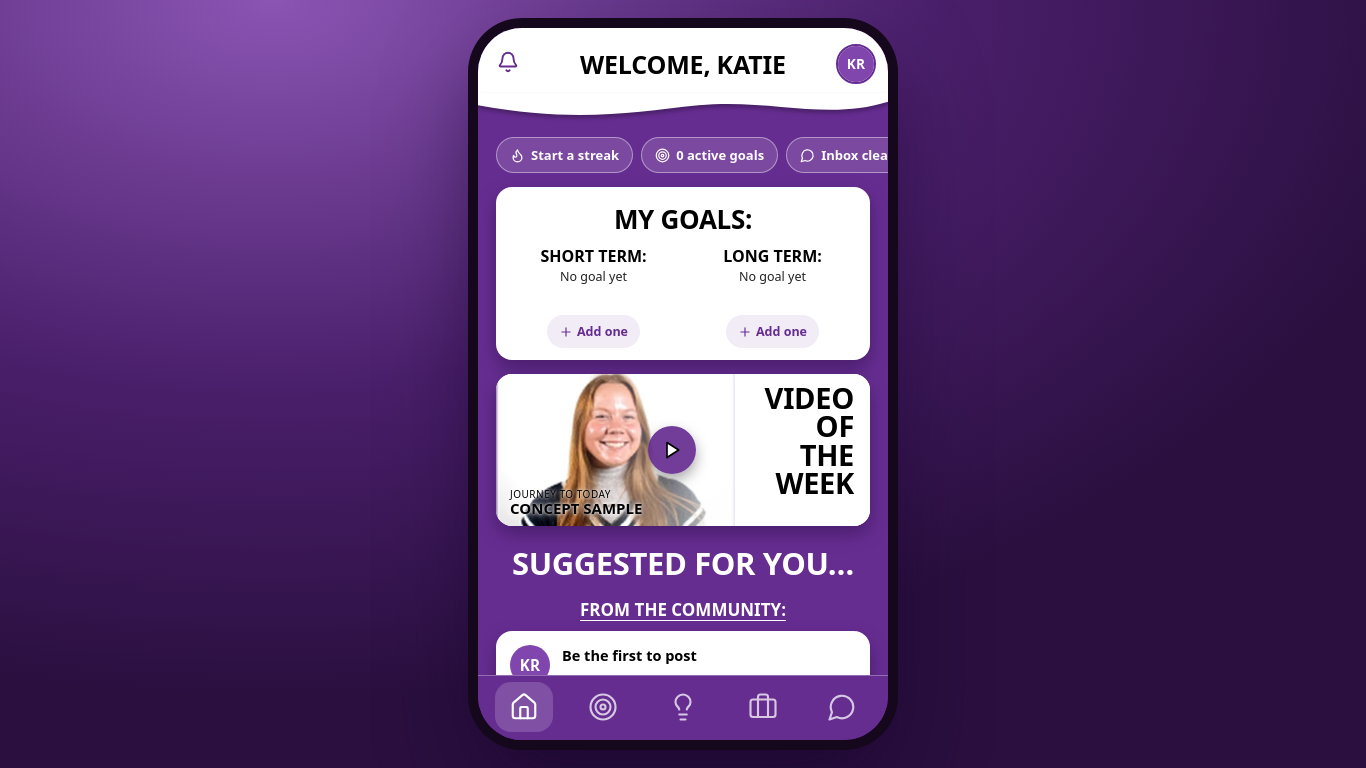
it: goals › makes a goal public and lets another member cheer and comment
Expected: the heading "Welcome, Katie" is shown, left=580, top=47, right=786, bottom=81
Step 1. Click the button named "Goals" → [603, 707], box left=574, top=682, right=632, bottom=732
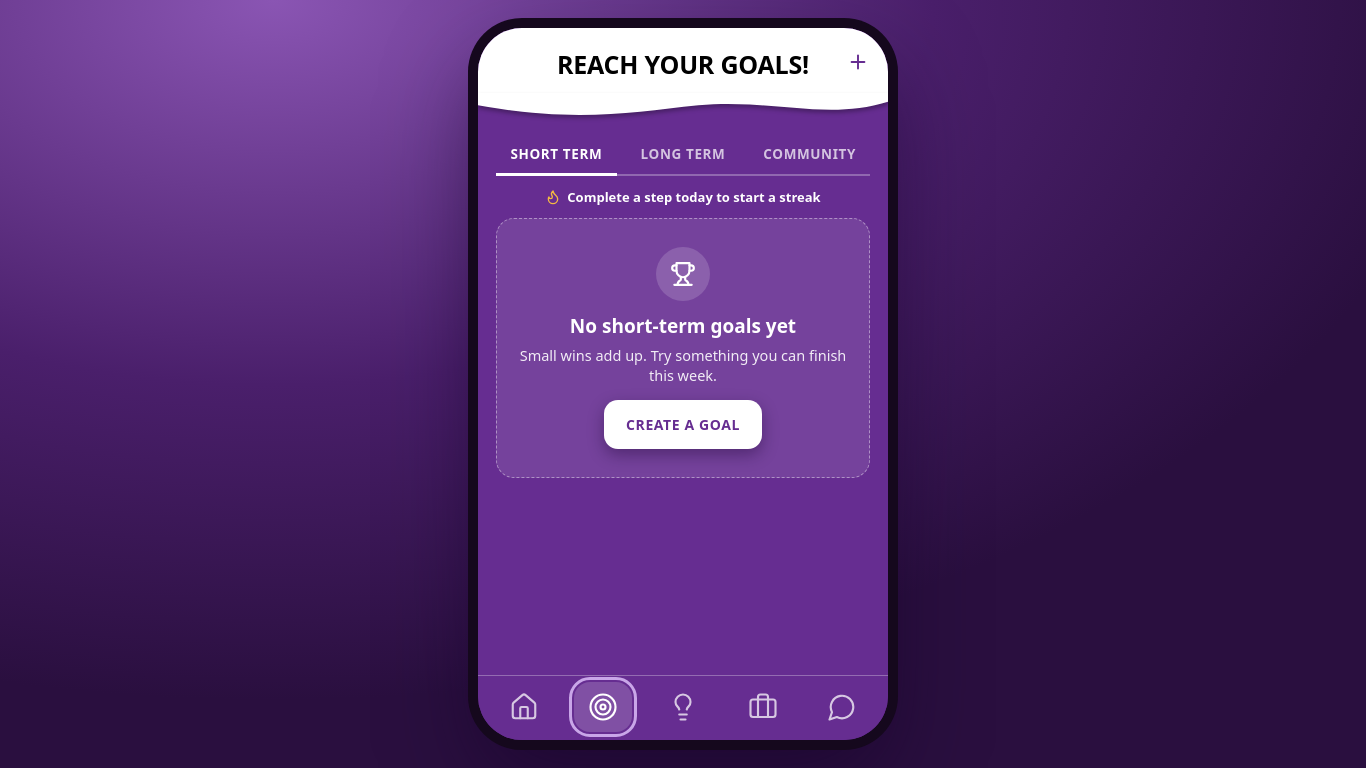
Step 2. Click the tab "Community" → [810, 156], box left=749, top=135, right=870, bottom=176
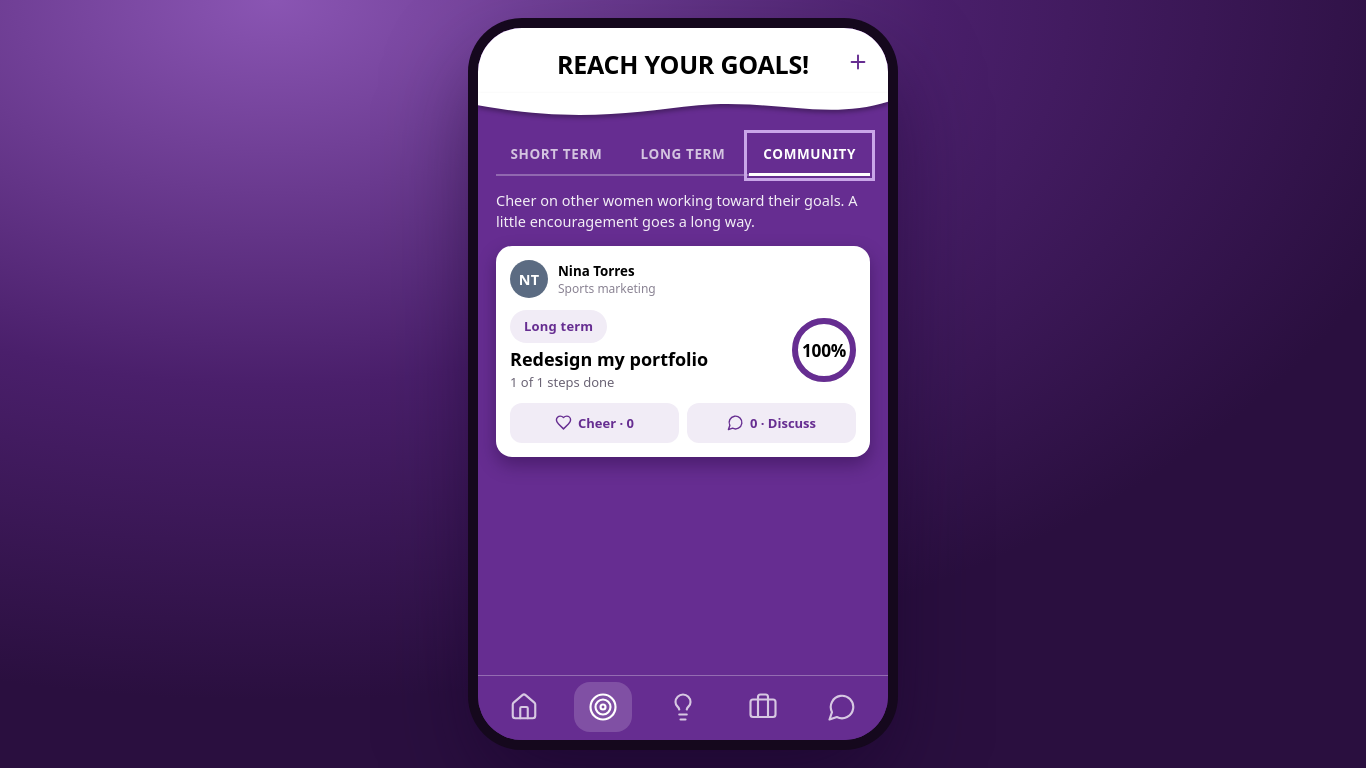
Step 3. Click the button "Cheer · 0" → [594, 423], box left=510, top=403, right=679, bottom=443
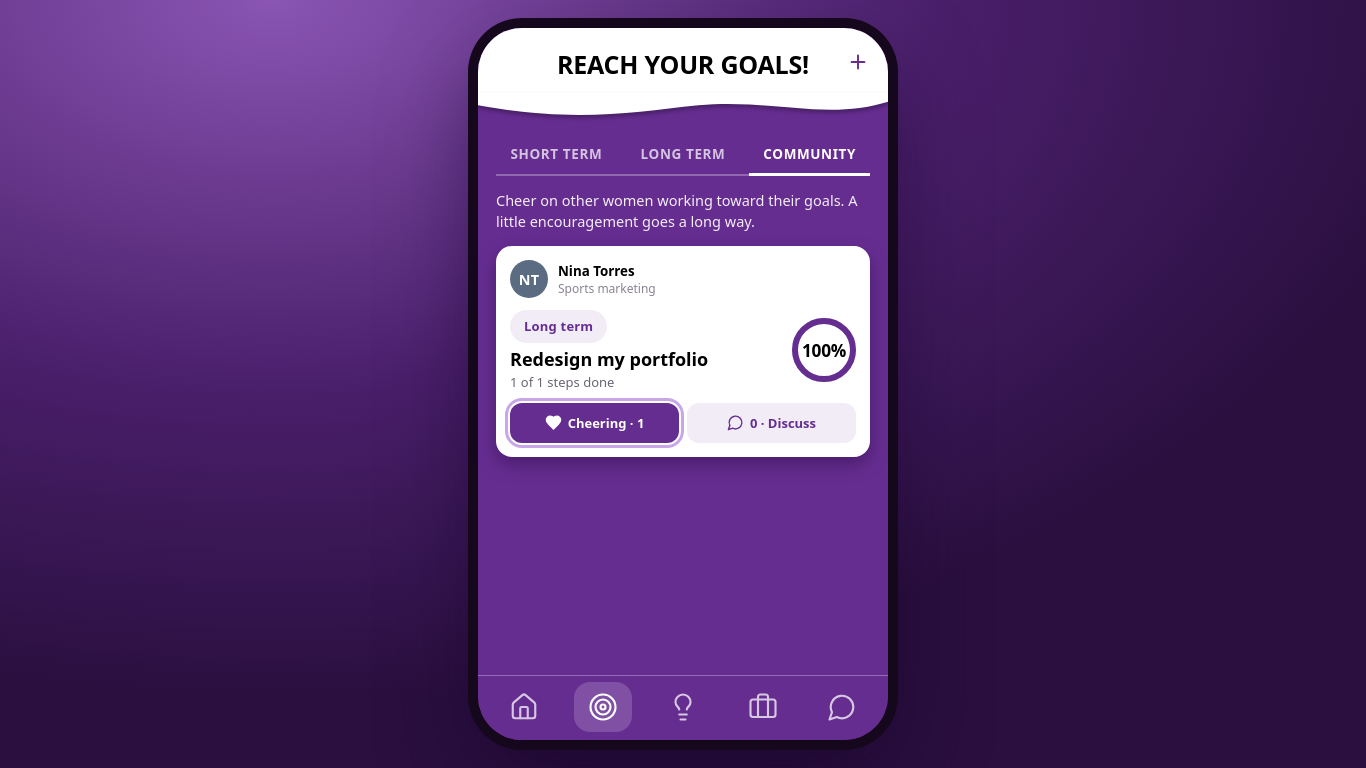
Step 4. Click the button "0 · Discuss" → [772, 423], box left=687, top=403, right=856, bottom=443
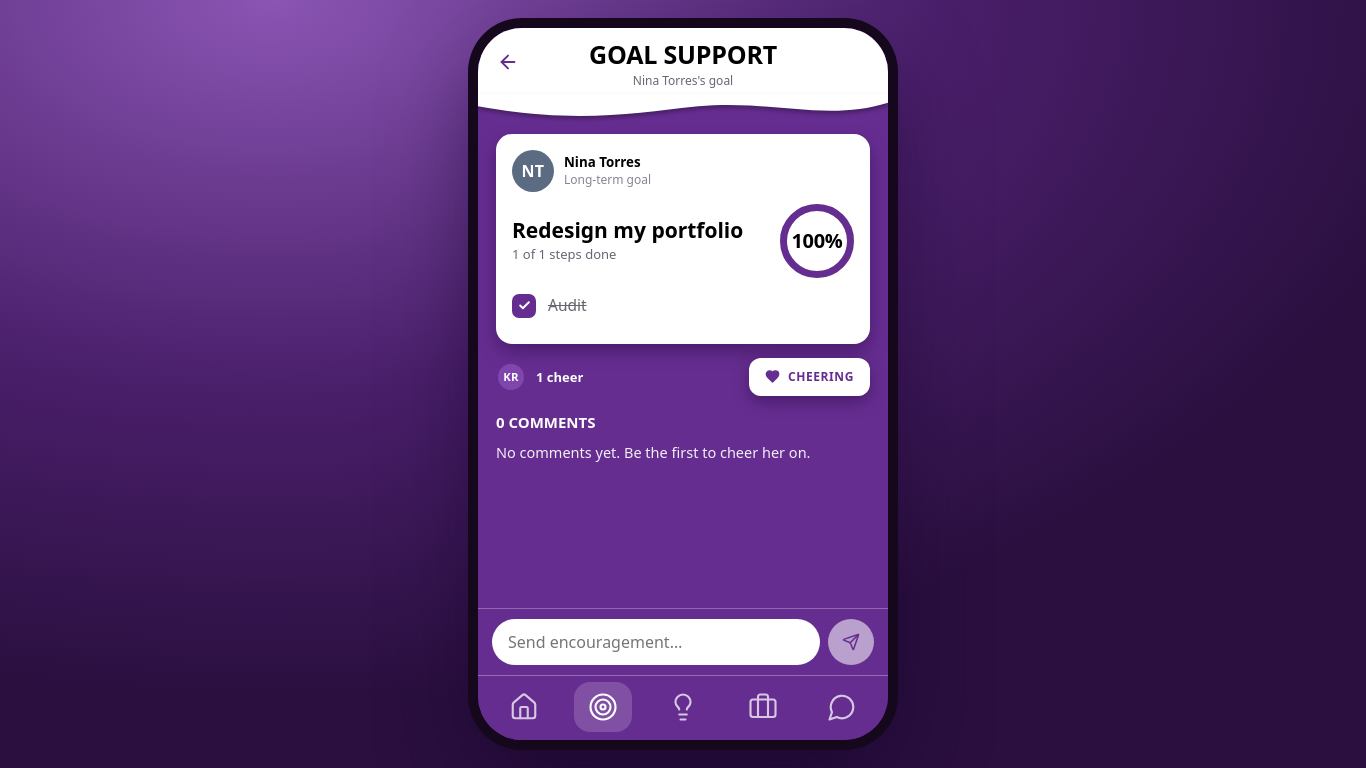
Result: the heading "Goal support" is shown at left=589, top=37, right=777, bottom=71
Step 5. Type "You've got this!" into the field with placeholder "Send encouragement…" → [656, 642], box left=492, top=619, right=820, bottom=665
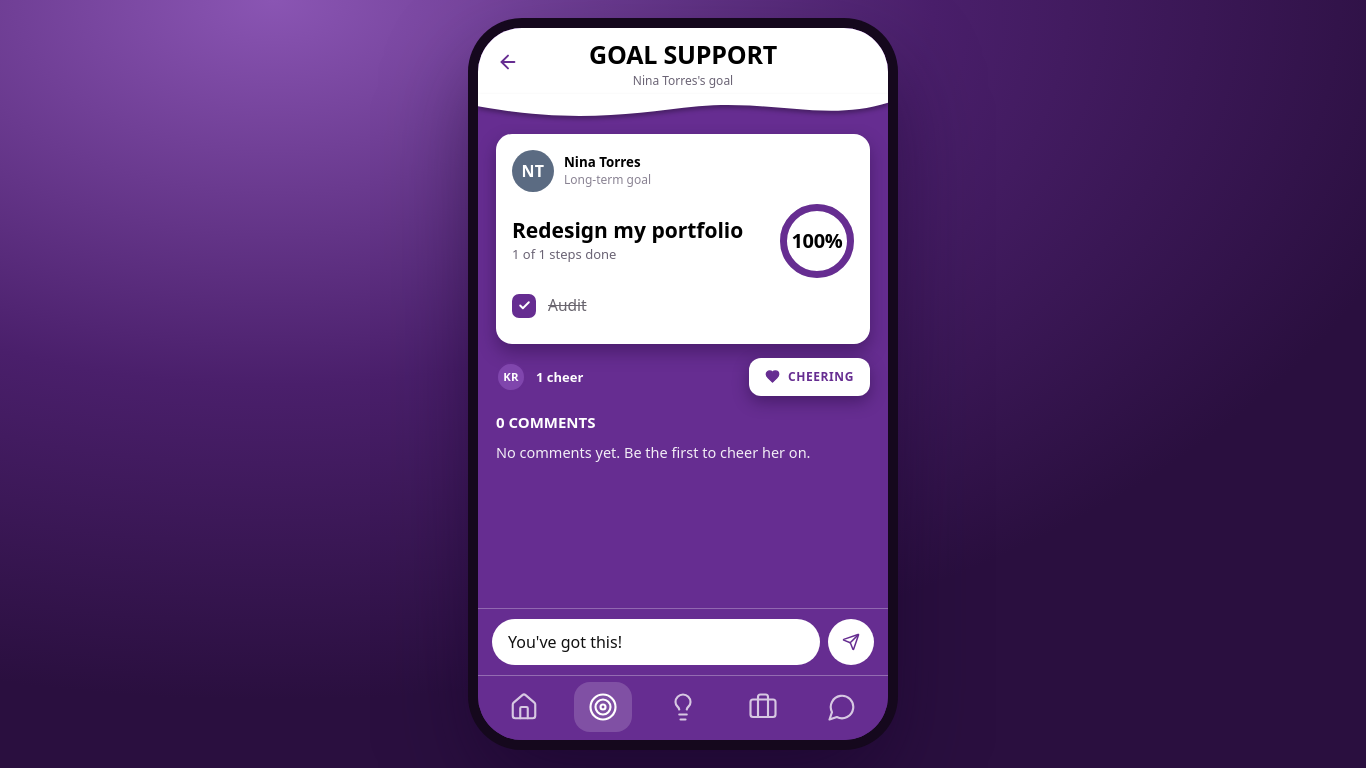
Step 6. Click the button named "Send" → [851, 642], box left=828, top=619, right=874, bottom=665
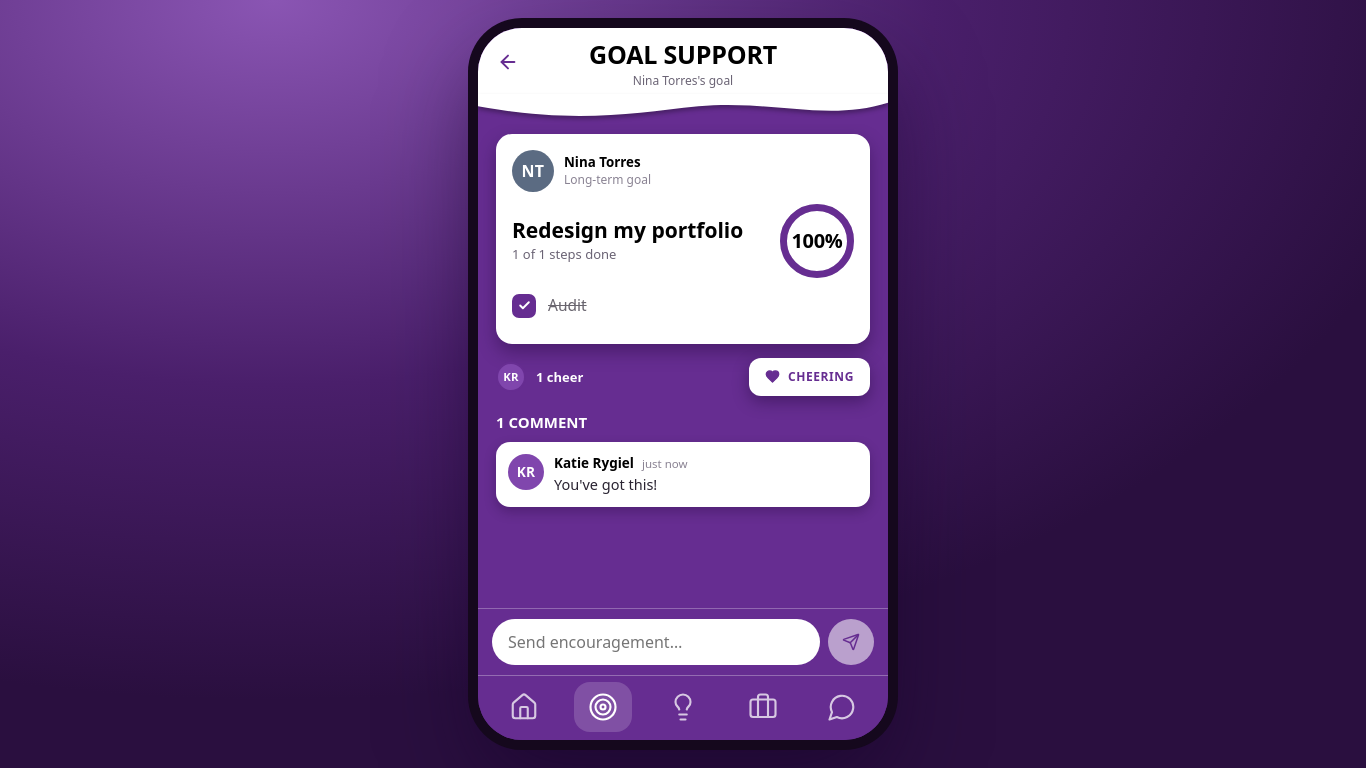
Result: the text "You've got this!" is shown at left=554, top=474, right=657, bottom=494
